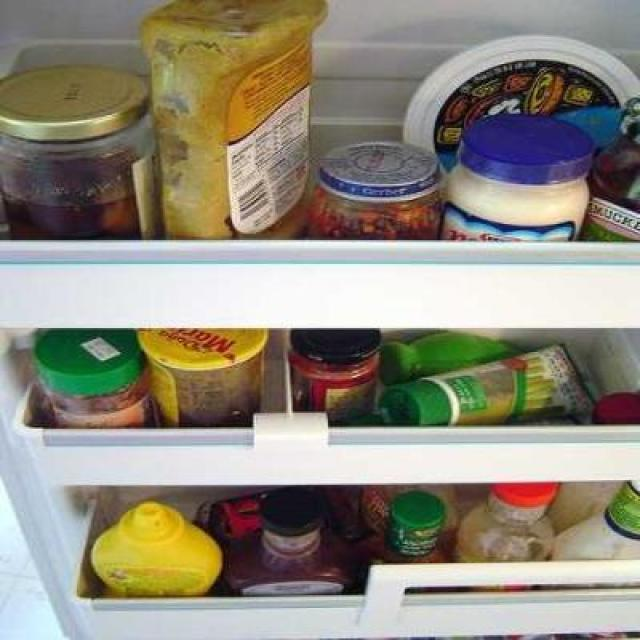refrigerator: (21, 317, 640, 640)
